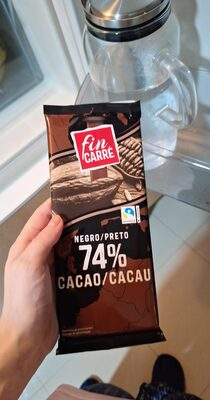Extra Dark 74% Cocoa: (10, 20, 200, 380)
